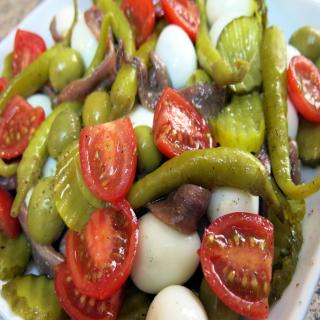tomato: (198, 210, 274, 320), (63, 196, 142, 299), (82, 115, 141, 205), (152, 85, 220, 159), (49, 255, 122, 319), (0, 89, 43, 160), (287, 54, 320, 124), (14, 26, 49, 78), (119, 0, 156, 48), (159, 0, 201, 40)
